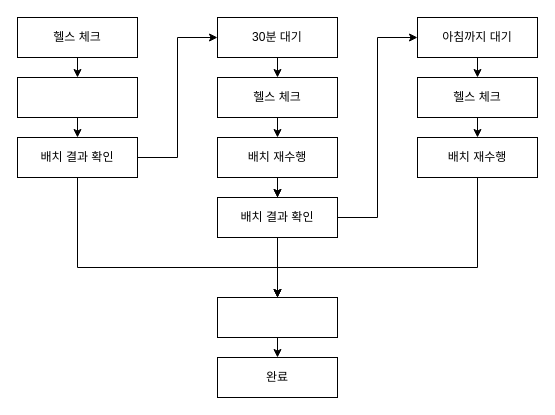
Some shapes in this 555 by 415 pixel diagram are drawn without their labels. The centre of each missing label's shape, as x and y in pixels:
"배치 결과 수집" goes at point 277,317.
"배치 수행" goes at point 77,97.
